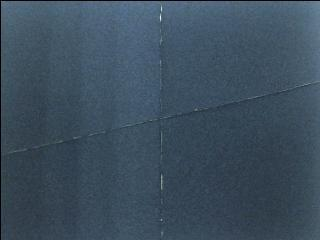crack: (0, 78, 319, 160), (149, 0, 173, 240)
